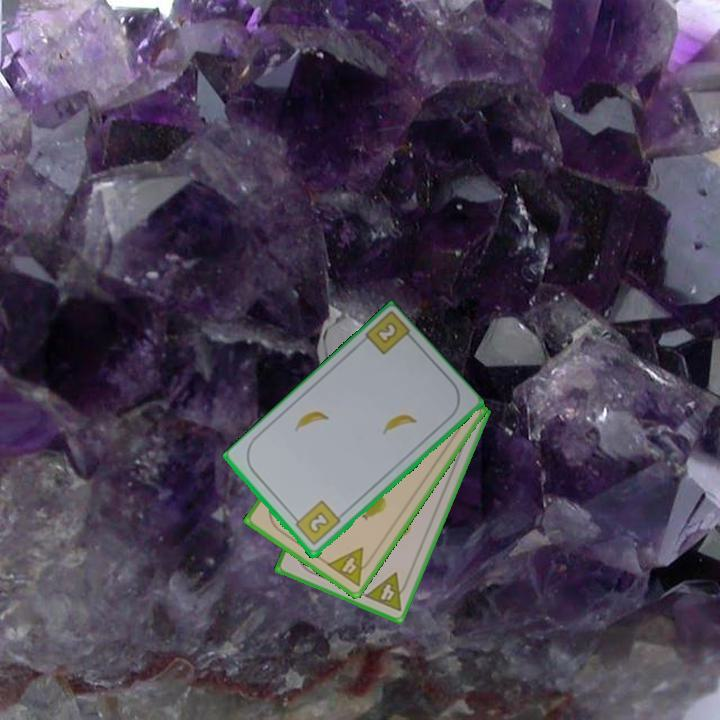2b: (289, 497, 343, 548), (375, 320, 398, 344)
4p: (323, 544, 377, 589), (361, 569, 413, 615)
